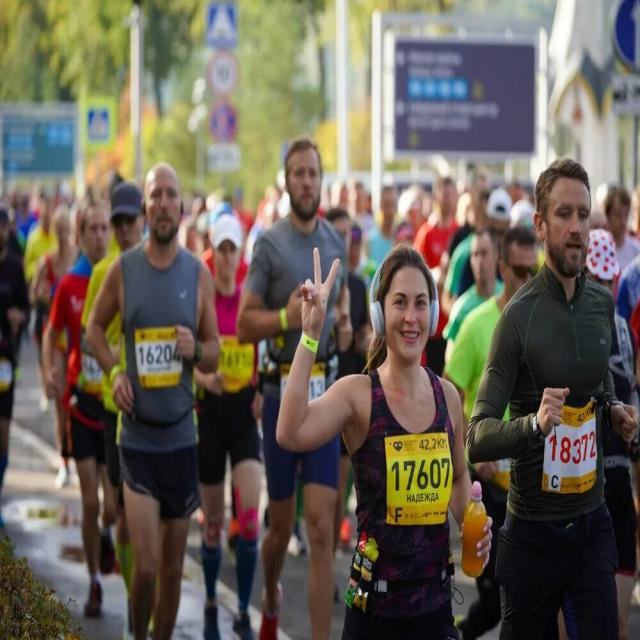Bib: (390, 455, 453, 497), (552, 434, 602, 470), (134, 338, 182, 373)
